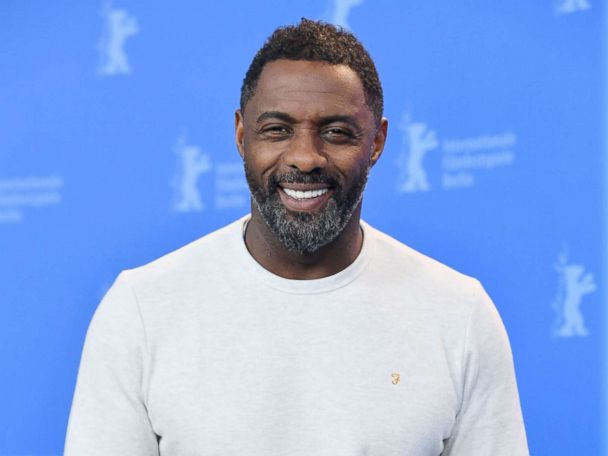Without Helmet: (222, 15, 397, 270)
